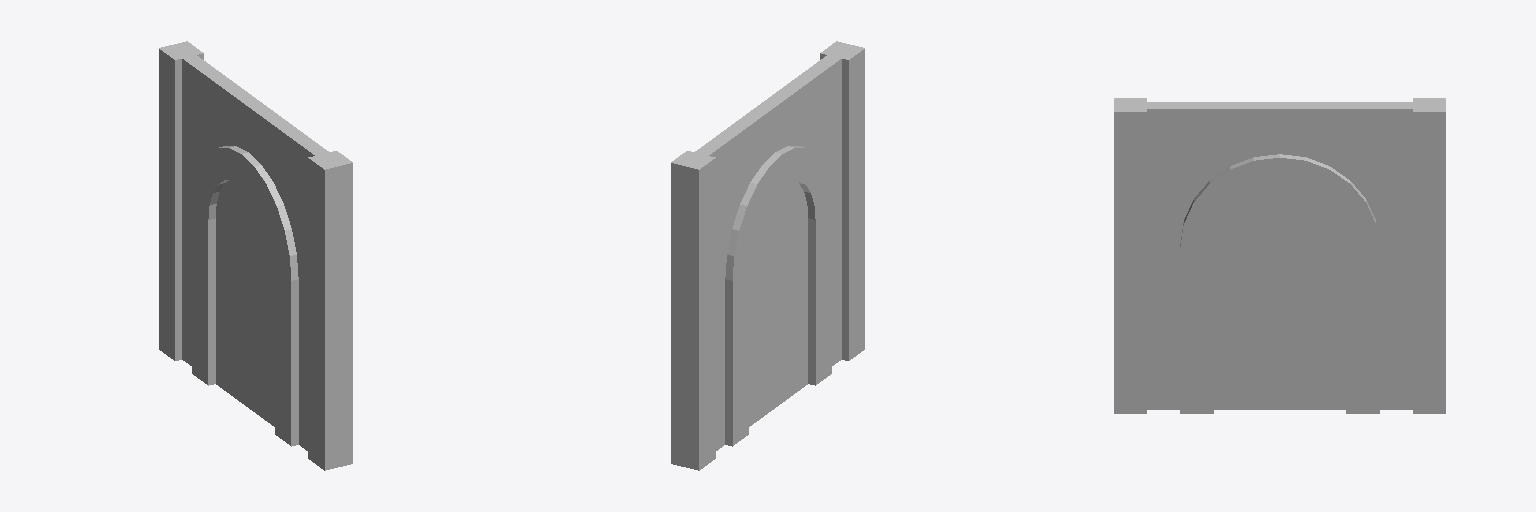
The model's file is wallDoor.obj.
3 views of the same model, side by side, from view 1: azimuth 30°, elevation 25°; view 2: azimuth 150°, elevation 25°; view 3: azimuth 270°, elevation 25° (orthographic).
Parts seen in each view (by area): view 1: wallDoor, door; view 2: wallDoor, door; view 3: wallDoor, door.
Part boxes in pixels (x1,y1,x2,y2): wallDoor: (159, 41, 352, 470); door: (216, 180, 274, 426); wallDoor: (671, 41, 864, 470); door: (749, 180, 807, 426); wallDoor: (1114, 98, 1445, 413); door: (1214, 188, 1345, 409).
Size of the model in its own units: 0.1 by 1 by 1.